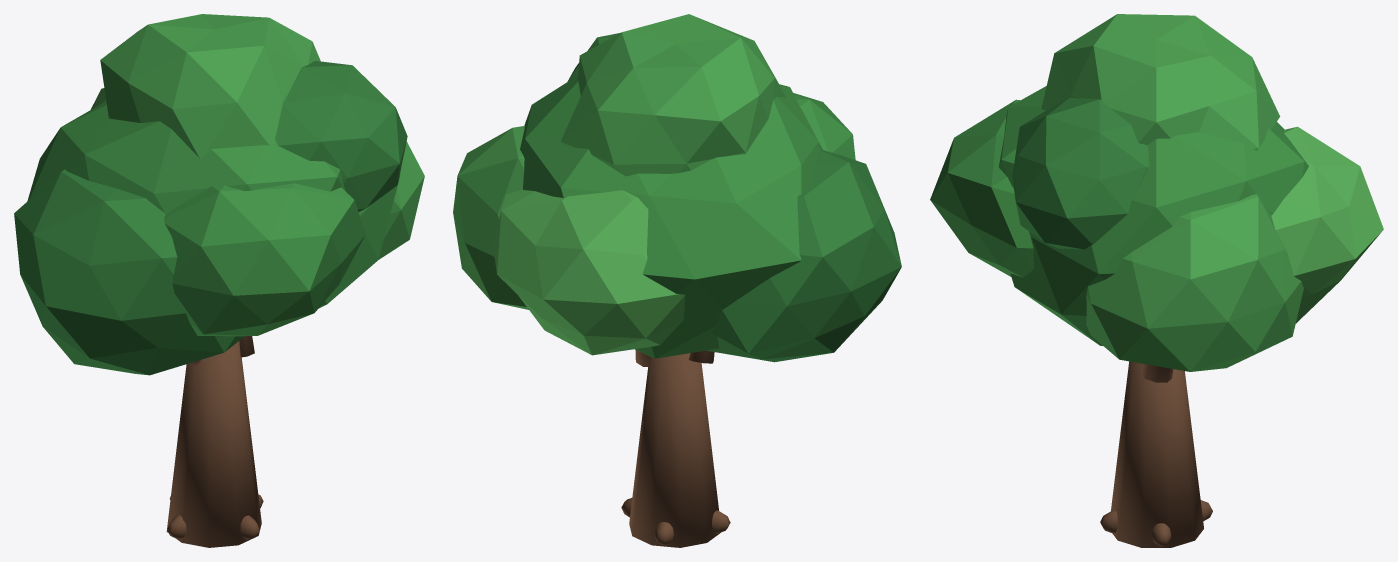
Rendered from oak.glb.
The picture shows the model from 3 angles, left to right: view 1: azimuth 30°, elevation 25°; view 2: azimuth 150°, elevation 25°; view 3: azimuth 270°, elevation 25°; orthographic projection. The views are drawn at different scales.
Parts seen in each view (by area): view 1: Crown, Trunk; view 2: Crown, Trunk; view 3: Crown, Trunk.
Part boxes in pixels (x1,y1,x2,y2): Crown: (14,14,424,375); Trunk: (166,336,263,547); Crown: (453,14,901,362); Trunk: (621,349,730,547); Crown: (930,14,1383,371); Trunk: (1100,361,1212,547).
Bounding box in the file's own units: 4.06 × 4.78 × 3.99.
